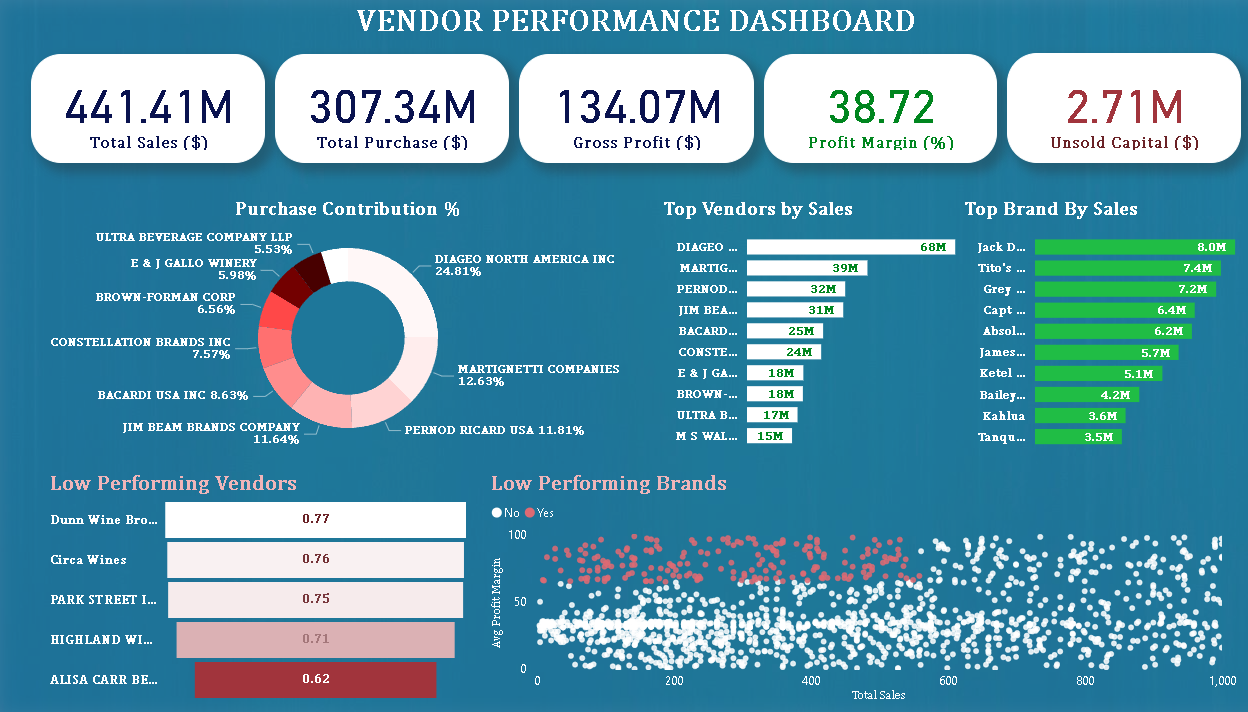

The dashboard page shown, as its layout file describes it:
{"tool":"powerbi","page":{"name":"Page 1","canvas":[1280,720],"ordinal":0},"visuals":[{"type":"shape","box":[13.8,0,1252.5,720],"z":0},{"type":"card","fields":{"Values":["Sum(vendor_sales_summary.Total_Sales_Dollars)"]},"box":[35,56,233.8,108.8],"z":1000},{"type":"textbox","box":[348.8,0,582.5,51.2],"z":2000},{"type":"card","fields":{"Values":["Sum(vendor_sales_summary.Total_Purchase_Dollars)"]},"box":[278.8,56.2,233.8,108.8],"z":3000},{"type":"card","fields":{"Values":["Sum(vendor_sales_summary.Gross_Profit)"]},"box":[522.5,56.2,235,108.8],"z":4000},{"type":"card","fields":{"Values":["Avg(vendor_sales_summary.Profit_Margin)"]},"box":[767.5,56.2,233.8,108.8],"z":5000},{"type":"card","fields":{"Values":["Sum(vendor_sales_summary.Unsold_Capital)"]},"box":[1011.2,55,233.8,110],"z":6000},{"type":"donutChart","title":"Purchase Contribution %","fields":{"Y":["Sum(Purchase_Contribution.Purchase_Contribution)"],"Category":["Purchase_Contribution.VendorName"]},"box":[48.4,201.5,607.2,258.8],"z":7000},{"type":"barChart","title":"Top Vendors by Sales","fields":{"Category":["vendor_sales_summary.VendorName"],"Y":["Sum(vendor_sales_summary.Total_Sales_Dollars)"]},"box":[662.7,200.6,338.5,258.8],"z":8000},{"type":"barChart","title":"Top Brand By Sales","fields":{"Y":["Sum(vendor_sales_summary.Total_Sales_Dollars)"],"Category":["vendor_sales_summary.Description"]},"box":[964.5,201.5,280.3,258.8],"z":9000},{"type":"funnel","title":"Low Performing Vendors","fields":{"Category":["Low_Turnover_Vendor.VendorName"],"Y":["Avg(Low_Turnover_Vendor.Avg_Stock_Turnover)"]},"box":[48.8,472.5,431.2,236.2],"z":10000},{"type":"scatterChart","title":"Low Performing Brands","fields":{"X":["Sum(Brand_Performance.Total_Sales)"],"Category":["Brand_Performance.Description"],"Y":["Avg(Brand_Performance.Avg_Profit_Margin)"],"Series":["Brand_Performance.Target_Brand"]},"box":[490,472.5,755,236.2],"z":10001}]}

Visuals, with their boxes in screenshot pixels (x1, y1, x2, y2), scaled from the page's 1280x720 canvas onto the 1248x712 screenshot:
shape: box(13, 0, 1235, 711)
card - Sum(vendor_sales_summary.Total_Sales_Dollars): box(34, 55, 262, 163)
textbox: box(340, 0, 908, 51)
card - Sum(vendor_sales_summary.Total_Purchase_Dollars): box(272, 56, 500, 163)
card - Sum(vendor_sales_summary.Gross_Profit): box(509, 56, 739, 163)
card - Avg(vendor_sales_summary.Profit_Margin): box(748, 56, 976, 163)
card - Sum(vendor_sales_summary.Unsold_Capital): box(986, 54, 1214, 163)
"Purchase Contribution %" donutChart: box(47, 199, 639, 455)
"Top Vendors by Sales" barChart: box(646, 198, 976, 454)
"Top Brand By Sales" barChart: box(940, 199, 1214, 455)
"Low Performing Vendors" funnel: box(48, 467, 468, 701)
"Low Performing Brands" scatterChart: box(478, 467, 1214, 701)
